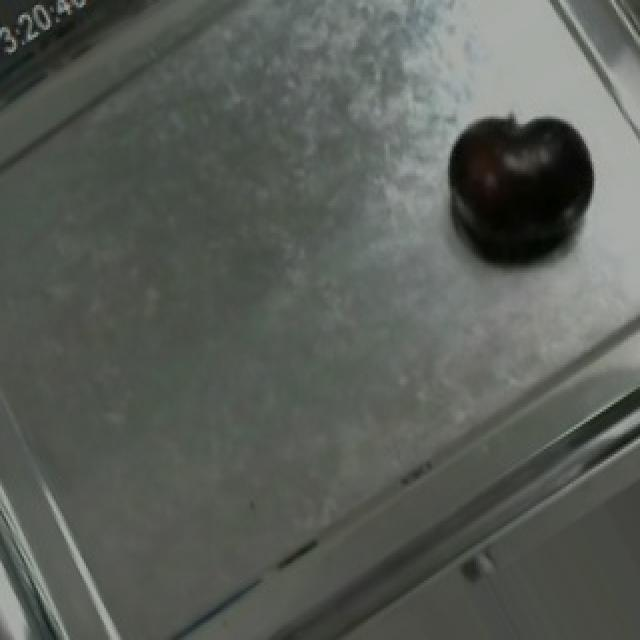Fruit: (426, 92, 622, 283)
